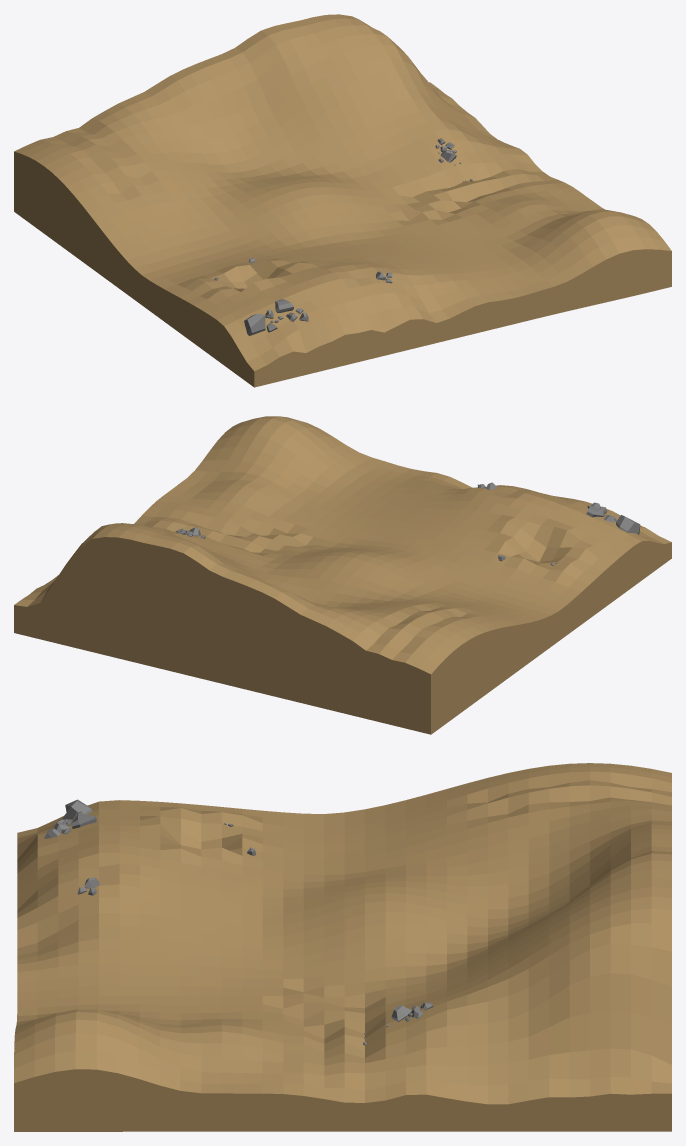
File: Desert_Test.glb
3 views of the same model, one above another, from view 1: azimuth 30°, elevation 25°; view 2: azimuth 150°, elevation 25°; view 3: azimuth 270°, elevation 25° (orthographic). The views are drawn at different scales.
Visible parts, largest first — view 1: Desert Dune; view 2: Desert Dune; view 3: Desert Dune.
Part boxes in pixels (x1=…): Desert Dune: x1=14, y1=14, x2=671, y2=387; Desert Dune: x1=14, y1=416, x2=671, y2=734; Desert Dune: x1=14, y1=763, x2=671, y2=1131.
Size of the model in its own units: 7.97 by 2.25 by 8.
